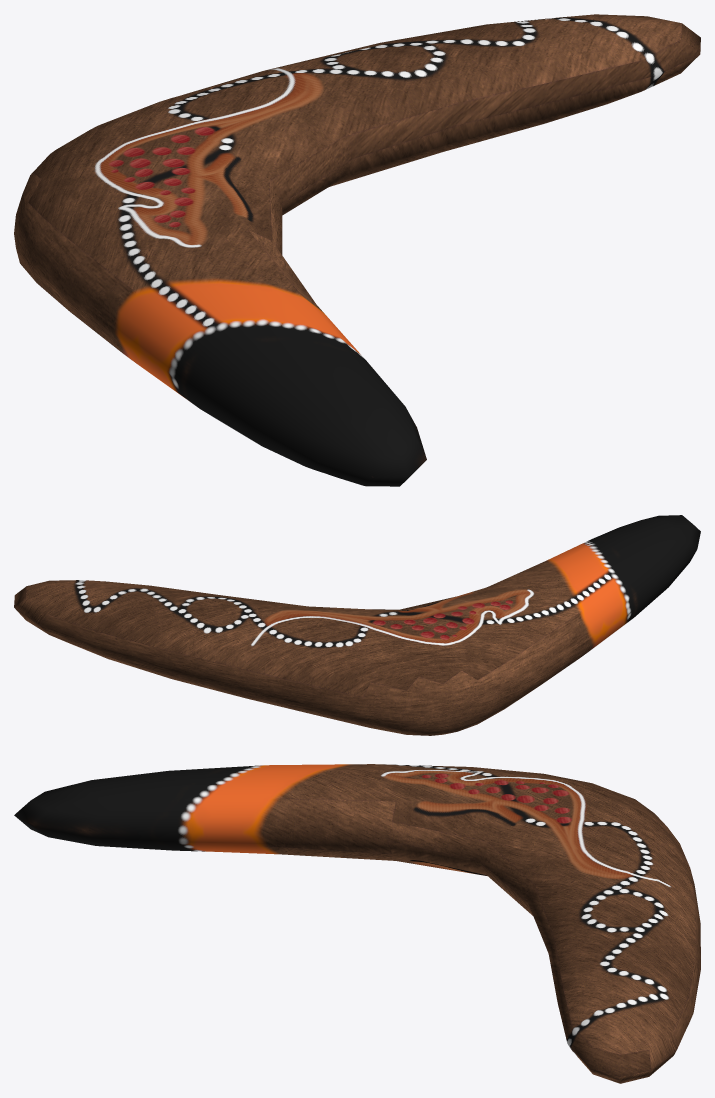
The model's file is Boomerang_Anm.fbx.
3 views of the same model, one above another, from view 1: azimuth 30°, elevation 25°; view 2: azimuth 150°, elevation 25°; view 3: azimuth 270°, elevation 25° (orthographic). The views are drawn at different scales.
Visible parts, largest first — view 1: boomerang_mesh; view 2: boomerang_mesh; view 3: boomerang_mesh.
Boxes of the visible parts, <box> form: boomerang_mesh: <box>14,14,700,486</box>; boomerang_mesh: <box>14,515,700,735</box>; boomerang_mesh: <box>14,764,700,1083</box>.
Size of the model in its own units: 7.53 by 1.11 by 7.52.
1 material, 1 textured.
